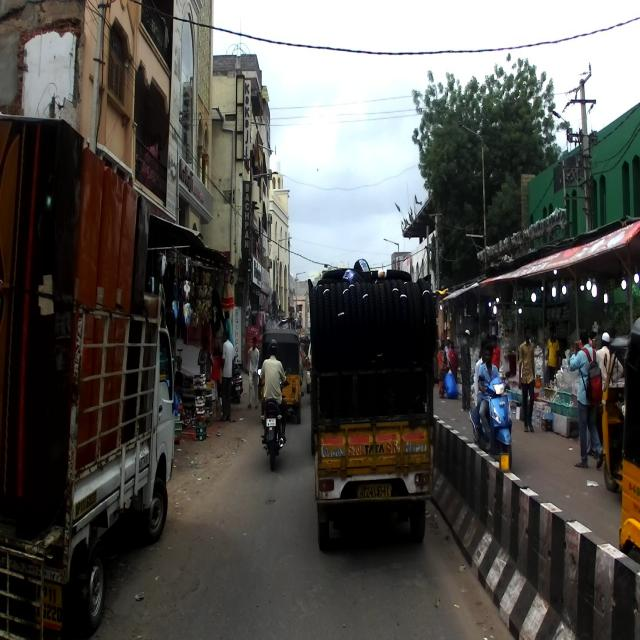motorcycle_Hero: (257, 366, 290, 471)
scooter: (469, 370, 512, 470)
truck: (0, 114, 184, 639), (308, 258, 436, 550)
